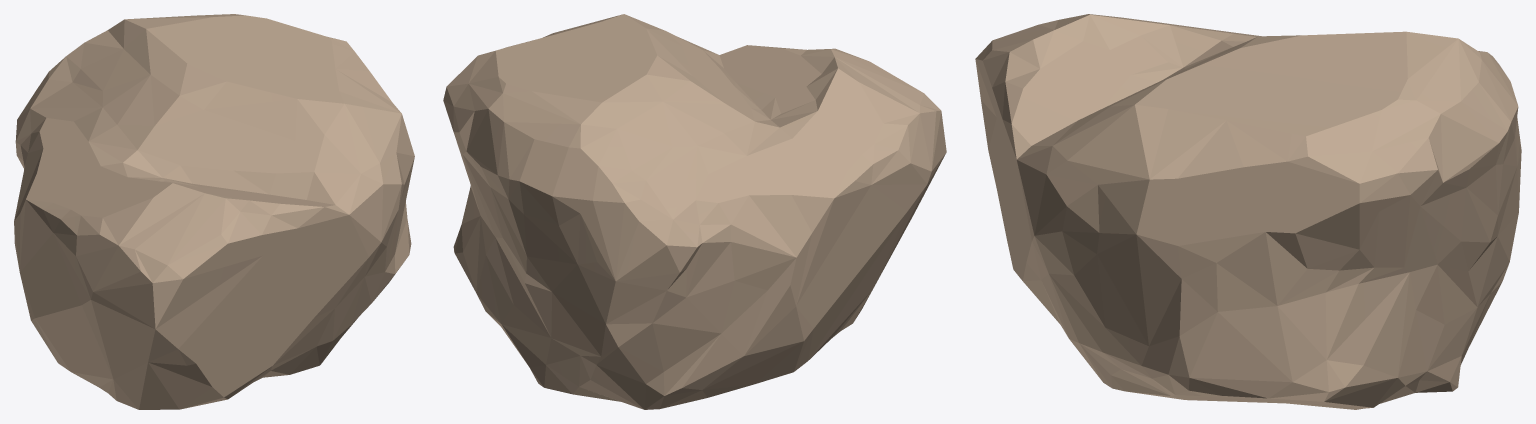
File: fm_boulder_snowcap_c.glb
The picture shows the model from 3 angles, left to right: view 1: azimuth 30°, elevation 25°; view 2: azimuth 150°, elevation 25°; view 3: azimuth 270°, elevation 25°; orthographic projection. The views are drawn at different scales.
Parts seen in each view (by area): view 1: SM_Env_Rock_05; view 2: SM_Env_Rock_05; view 3: SM_Env_Rock_05.
Boxes of the visible parts, x1=… form: SM_Env_Rock_05: x1=14, y1=14, x2=414, y2=409; SM_Env_Rock_05: x1=443, y1=14, x2=946, y2=409; SM_Env_Rock_05: x1=975, y1=14, x2=1521, y2=409.
Size of the model in its own units: 1.47 by 1.05 by 1.55.
Materials: 1 (1 with a texture image).
